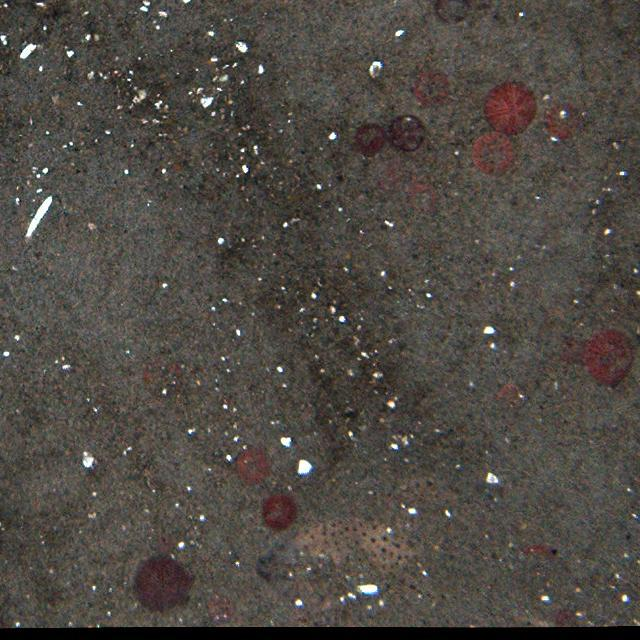skate: (251, 496, 421, 616)
